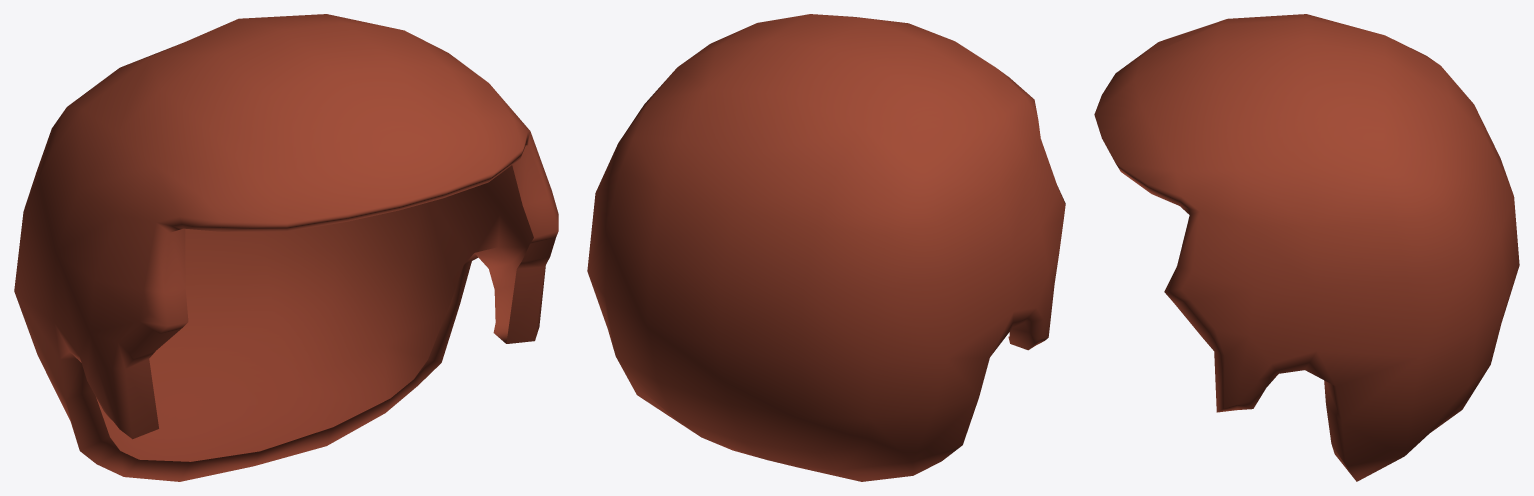
File: Hair_Brown_1.fbx
3 renders of one model, left to right at view 1: azimuth 30°, elevation 25°; view 2: azimuth 150°, elevation 25°; view 3: azimuth 270°, elevation 25°, orthographic. The views are drawn at different scales.
Visible parts, largest first — view 1: Hair_Brown_1; view 2: Hair_Brown_1; view 3: Hair_Brown_1.
Part boxes in pixels (bbox=[...]): Hair_Brown_1: bbox=[14, 14, 558, 481]; Hair_Brown_1: bbox=[587, 14, 1065, 481]; Hair_Brown_1: bbox=[1094, 14, 1519, 481].
Size of the model in its own units: 52.84 by 51.31 by 48.92.
